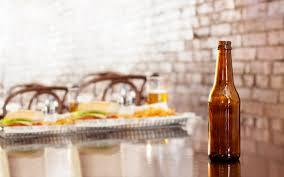Glass bottle: (206, 34, 250, 169)
